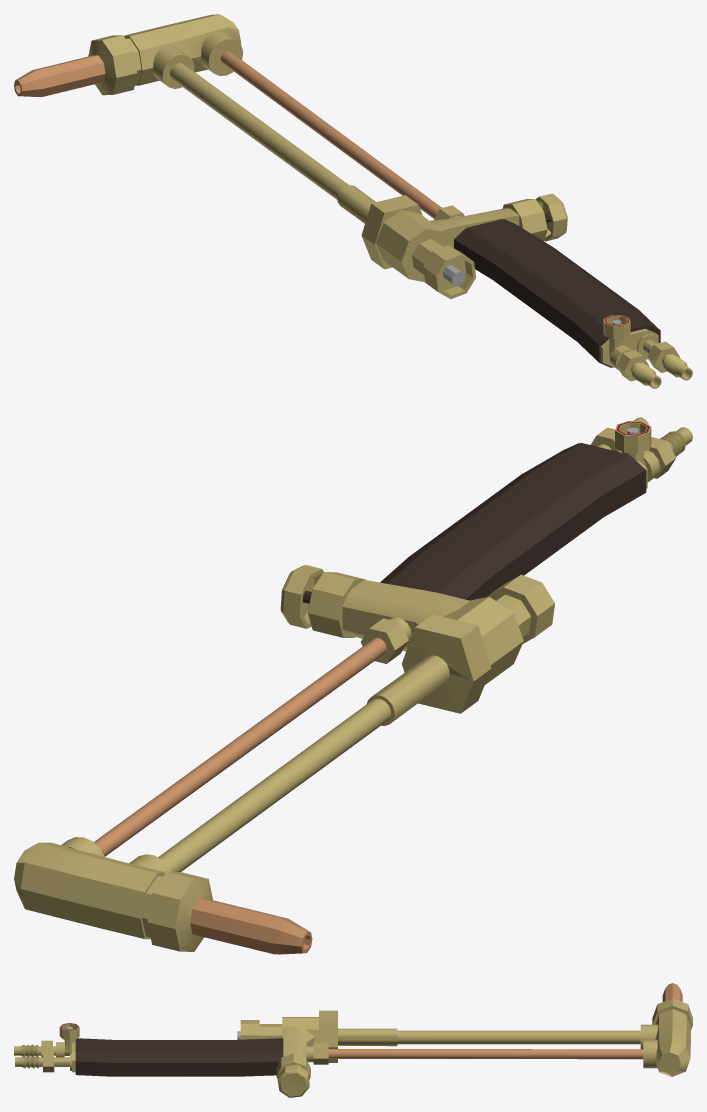
The model's file is Welding torch.fbx.
3 renders of one model, top to bottom at view 1: azimuth 30°, elevation 25°; view 2: azimuth 150°, elevation 25°; view 3: azimuth 270°, elevation 25°, orthographic. The views are drawn at different scales.
Visible parts, largest first — view 1: Welding_Torch; view 2: Welding_Torch; view 3: Welding_Torch.
Boxes of the visible parts, x1,y1,x2,y2 form: Welding_Torch: (14,14,692,388); Welding_Torch: (14,417,692,954); Welding_Torch: (14,983,692,1097).
Bounding box in the file's own units: 62.98 × 13.56 × 188.
